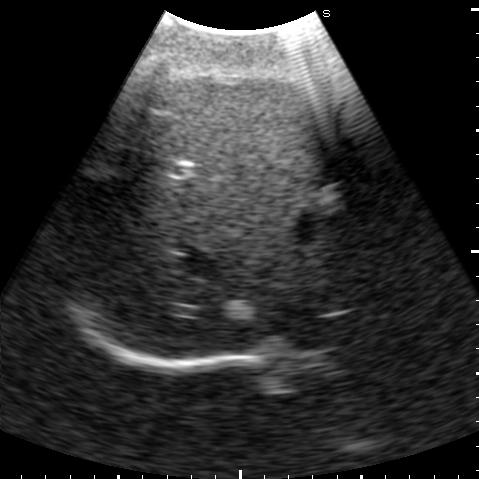S5: (135, 76, 329, 184)
S7: (70, 147, 176, 308)
S8: (110, 170, 365, 358)
Tumor: (313, 187, 340, 211), (223, 301, 256, 320)
